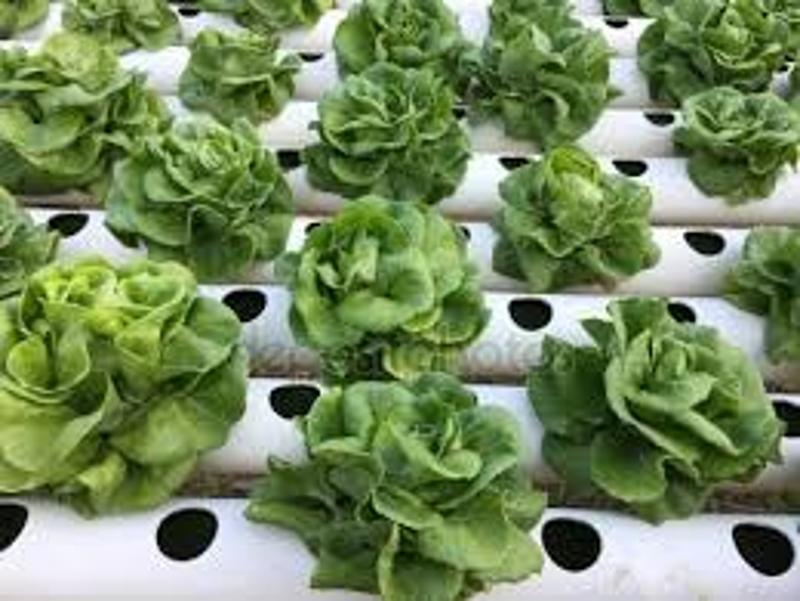cabbage: (4, 256, 242, 516), (274, 377, 540, 601), (539, 297, 784, 524), (294, 196, 486, 374), (118, 112, 290, 271), (499, 149, 657, 291), (6, 36, 146, 189), (318, 61, 462, 201), (481, 12, 604, 146), (678, 77, 792, 198), (335, 1, 473, 74), (193, 30, 298, 122)
